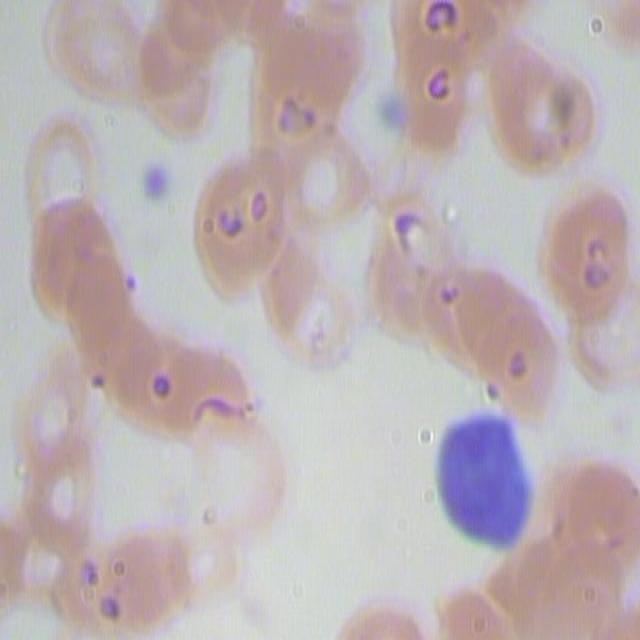RBC: (85, 267, 284, 476), (378, 4, 588, 169), (380, 204, 541, 394), (53, 486, 292, 610), (21, 116, 129, 354), (262, 131, 371, 357), (210, 0, 365, 153), (40, 4, 258, 106), (14, 376, 114, 587), (550, 204, 632, 390), (562, 463, 640, 640), (188, 145, 275, 294), (329, 585, 491, 640), (454, 572, 585, 640), (543, 450, 584, 564)
WBC: (424, 412, 538, 564)
platelets: (140, 154, 176, 213)
